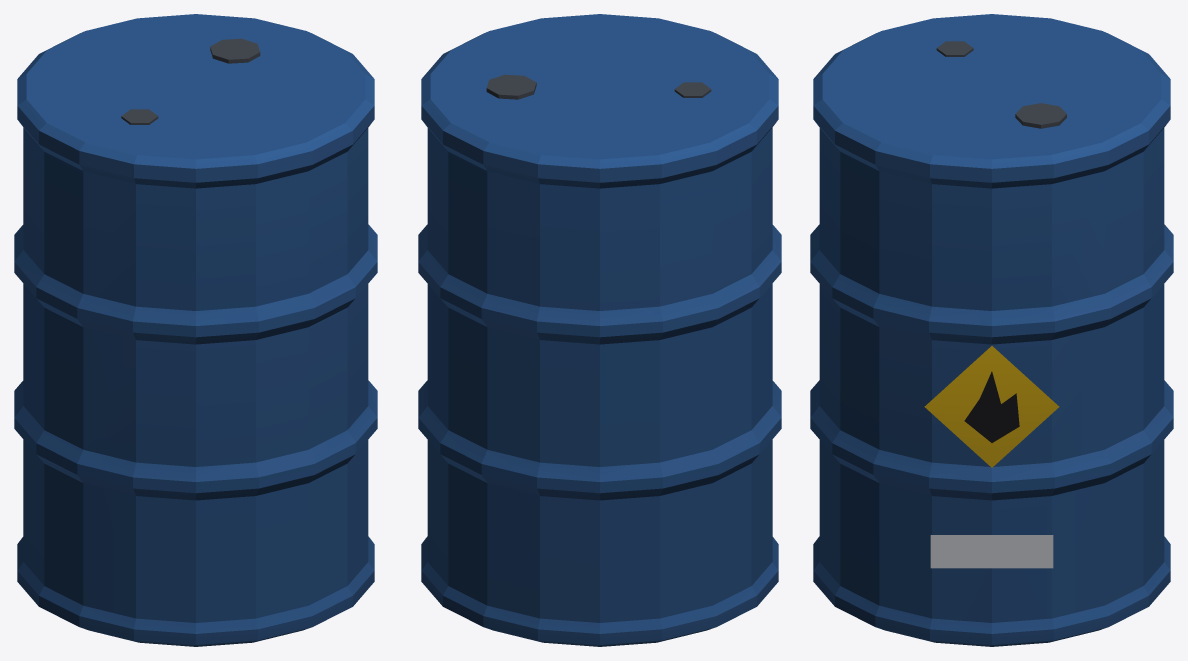
The model's file is barrel_oil.glb.
The picture shows the model from 3 angles, left to right: view 1: azimuth 30°, elevation 25°; view 2: azimuth 150°, elevation 25°; view 3: azimuth 270°, elevation 25°; orthographic projection.
Visible parts, largest first — view 1: Body; view 2: Body; view 3: Body.
Boxes of the visible parts, x1,y1,x2,y2 form: Body: (14,14,377,646); Body: (418,14,781,646); Body: (810,14,1173,646).
Bounding box in the file's own units: 0.6 × 0.887 × 0.5909.
